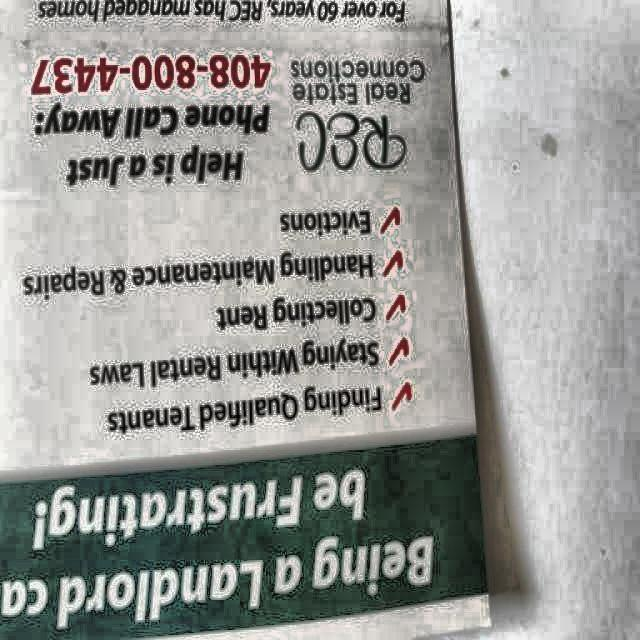Paper: (0, 0, 491, 638)
